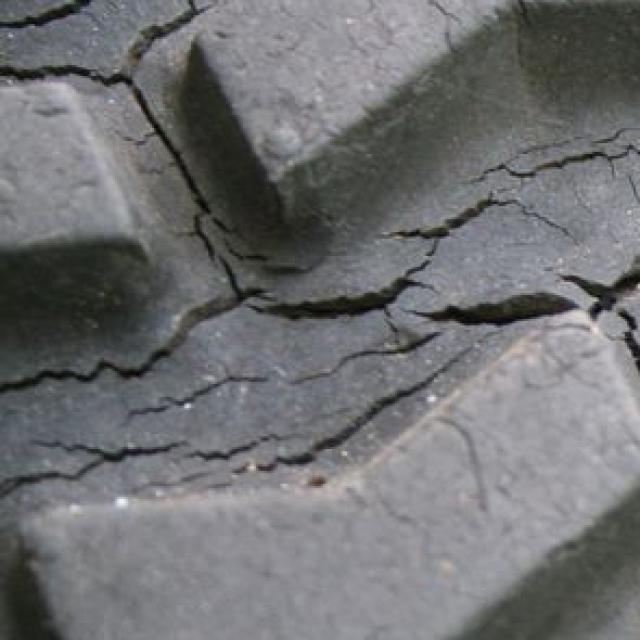Cracks: (0, 0, 638, 563)
